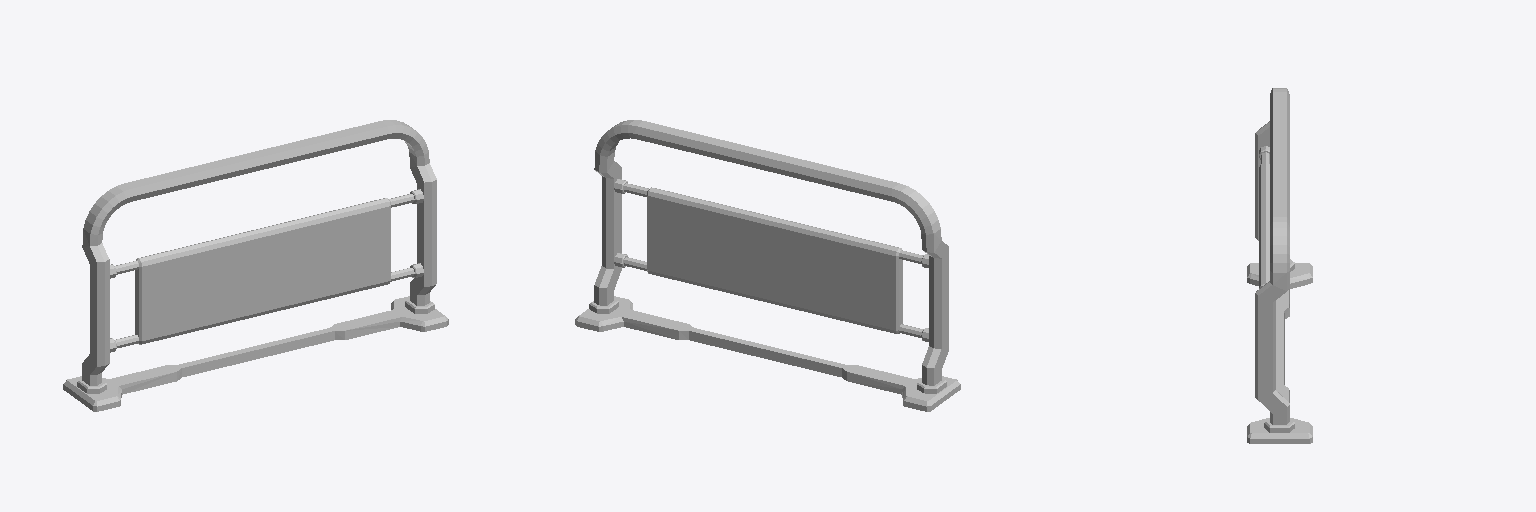
File: Barrier.obj
The picture shows the model from 3 angles: view 1: azimuth 30°, elevation 25°; view 2: azimuth 150°, elevation 25°; view 3: azimuth 270°, elevation 25°; orthographic projection.
Parts seen in each view (by area): view 1: barricade008; view 2: barricade008; view 3: barricade008.
Part boxes in pixels (x1,y1,x2,y2): barricade008: (63,120,448,411); barricade008: (575,120,960,411); barricade008: (1247,88,1312,443).
Bounding box in the file's own units: 1.99 × 1.09 × 0.3196.